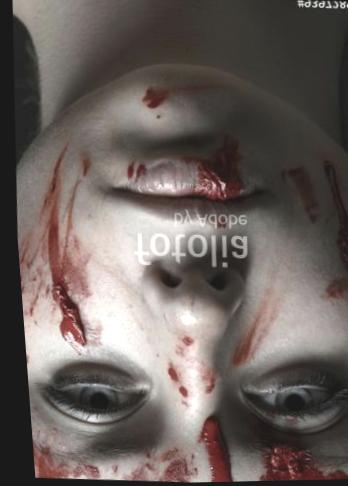Fire: (154, 285, 279, 412), (15, 148, 87, 352), (124, 135, 244, 201), (254, 446, 343, 482), (322, 162, 348, 274), (26, 442, 96, 480), (115, 450, 190, 483), (189, 419, 227, 483), (140, 83, 220, 108)
